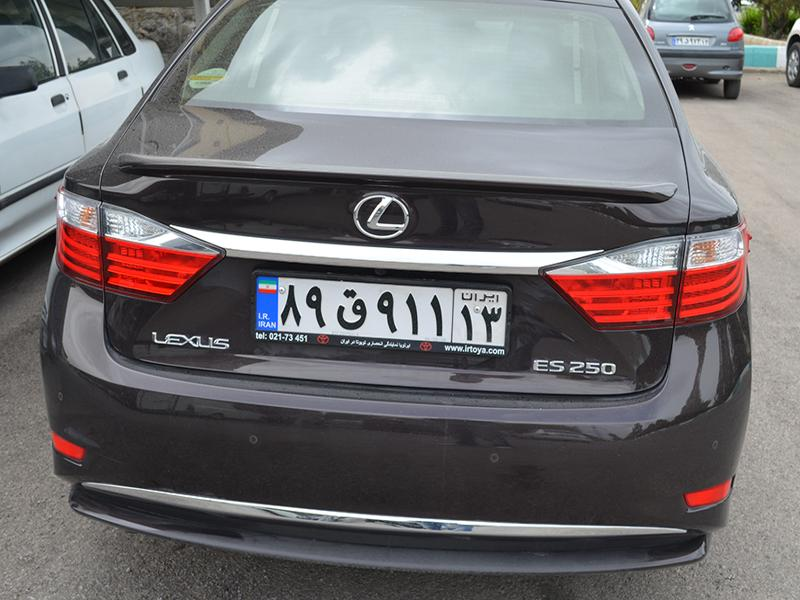Plate: (253, 274, 518, 357)
